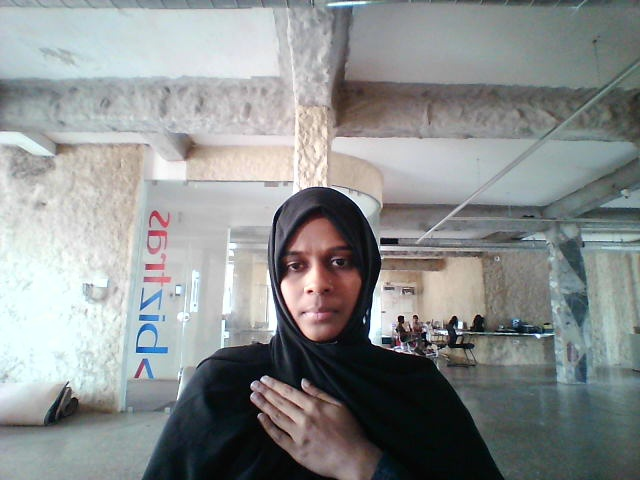PLEASE: (236, 360, 421, 476)
